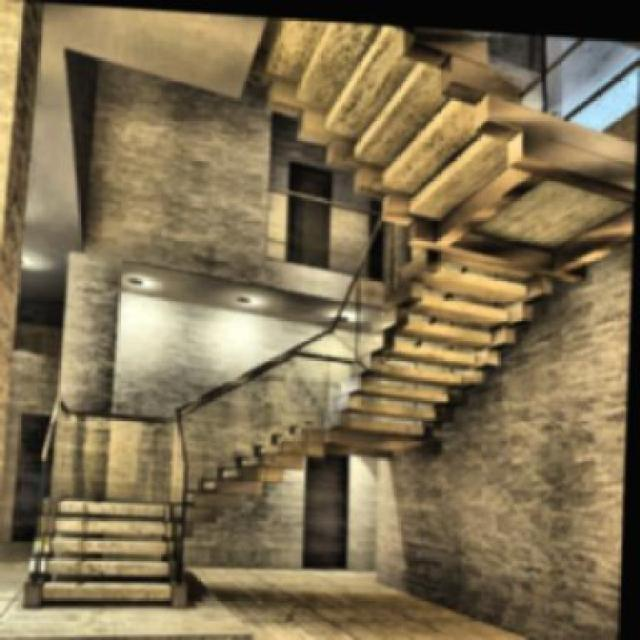stair: (34, 483, 191, 600)
